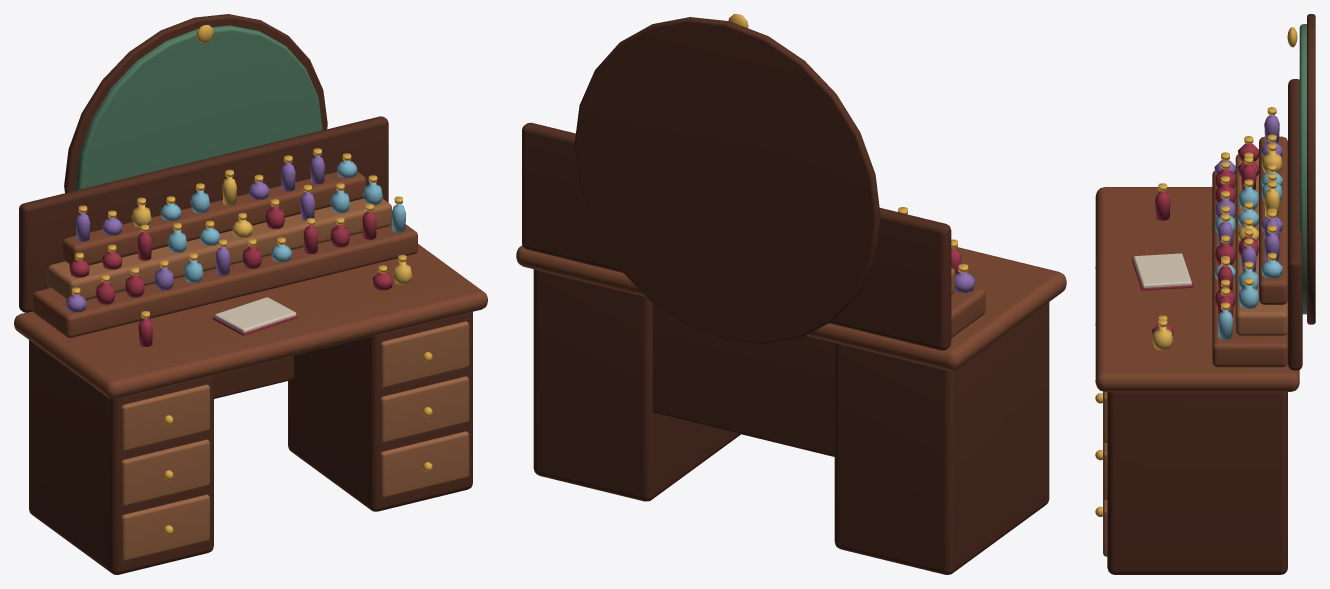
Rendered from perfume-organ.glb.
3 views of the same model, side by side, from view 1: azimuth 30°, elevation 25°; view 2: azimuth 150°, elevation 25°; view 3: azimuth 270°, elevation 25° (orthographic). The views are drawn at different scales.
Parts seen in each view (by area): view 1: perfume-organ; view 2: perfume-organ; view 3: perfume-organ.
Boxes of the visible parts, bbox=[...] form: perfume-organ: bbox=[14, 14, 487, 574]; perfume-organ: bbox=[516, 14, 1066, 574]; perfume-organ: bbox=[1095, 14, 1315, 574].
Size of the model in its own units: 1.56 by 1.74 by 0.757.
